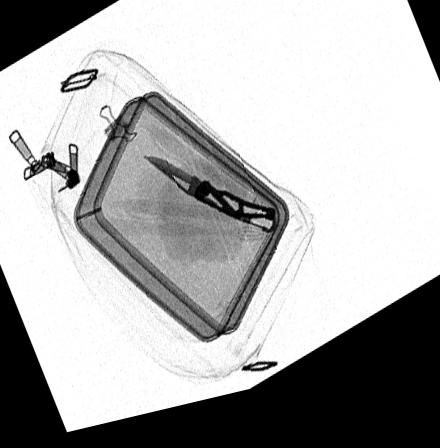Knife: (143, 160, 277, 245)
